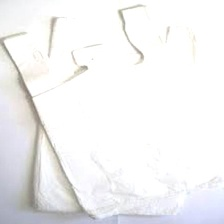plastic_bag: (0, 1, 224, 220), (26, 10, 203, 216)
